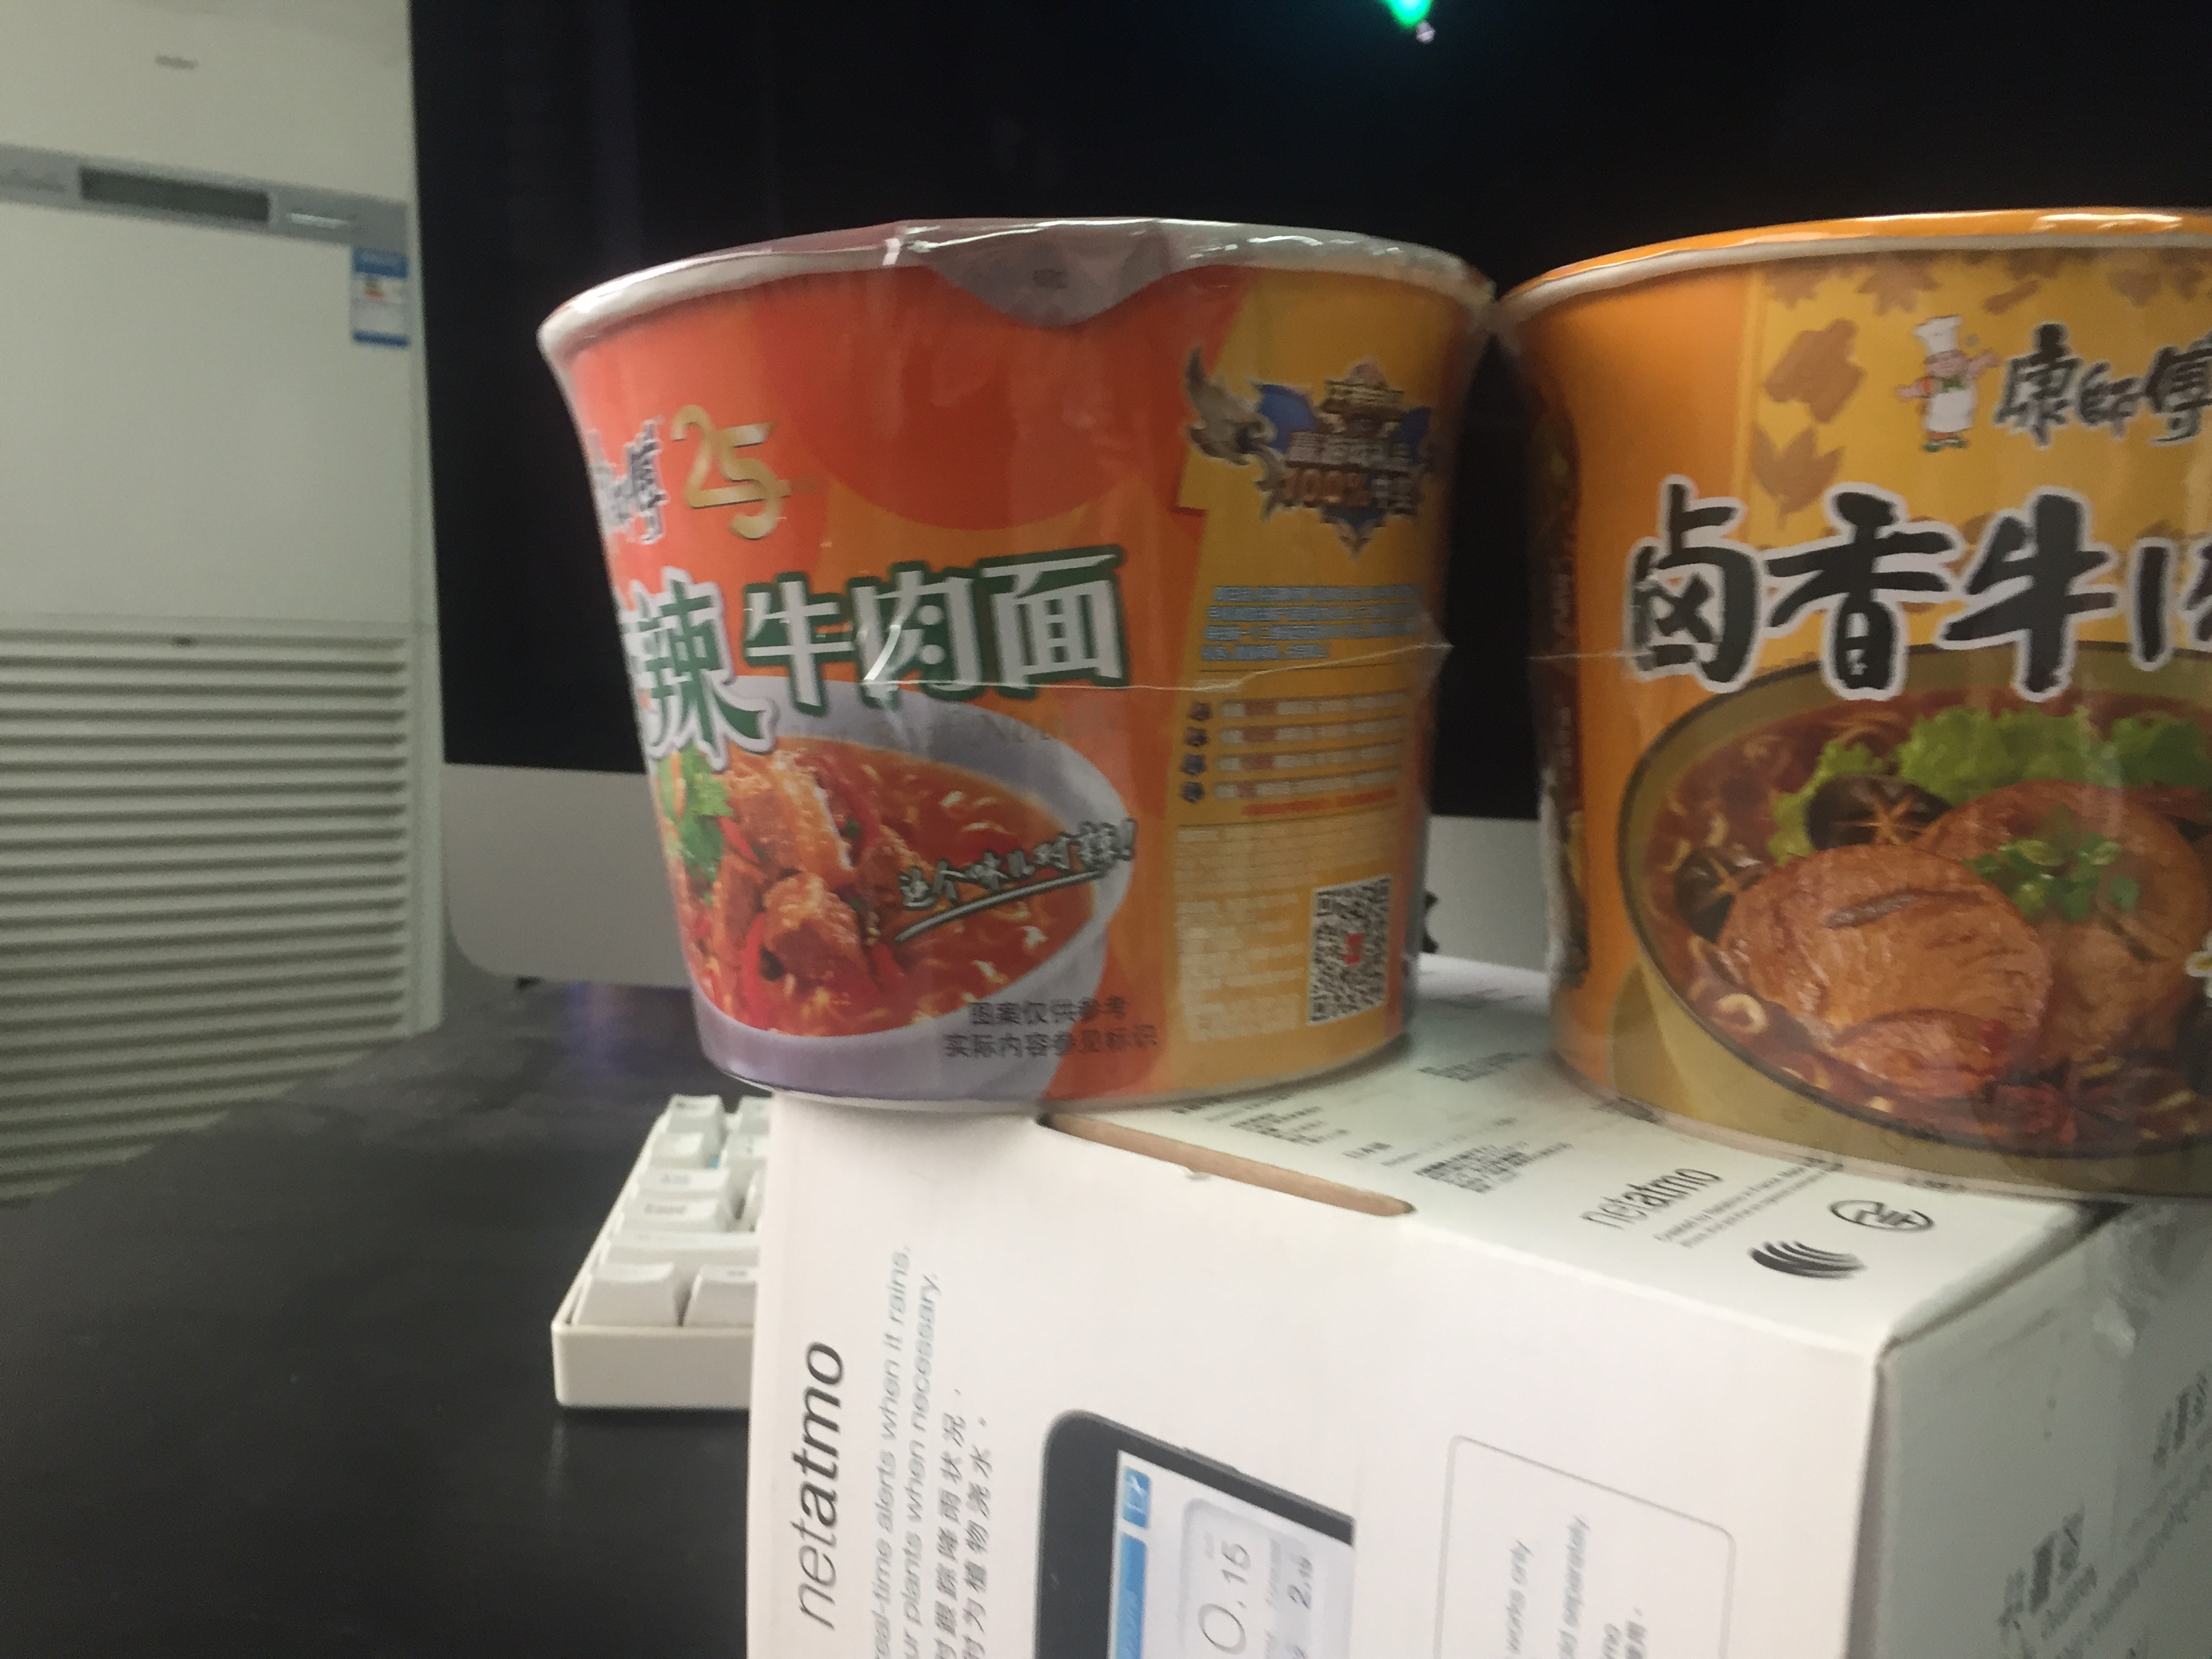luxiang: (1493, 206, 2212, 1218)
xiangla: (536, 213, 1493, 1119)
